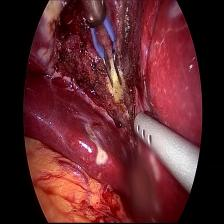Bipolar: (82, 0, 128, 94)
Irrigator: (130, 106, 168, 158)
